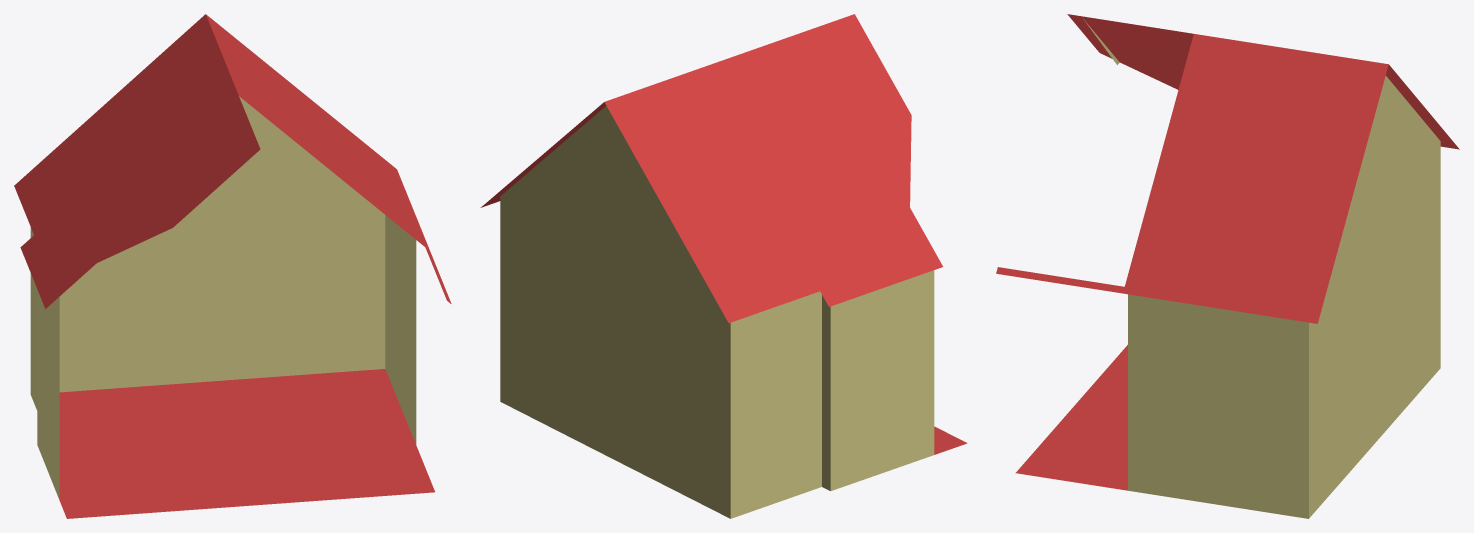
3 renders of one model, left to right at view 1: azimuth 30°, elevation 25°; view 2: azimuth 150°, elevation 25°; view 3: azimuth 270°, elevation 25°, orthographic. The views are drawn at different scales.
Bounding box in the file's own units: 16.49 × 15.37 × 13.95.
